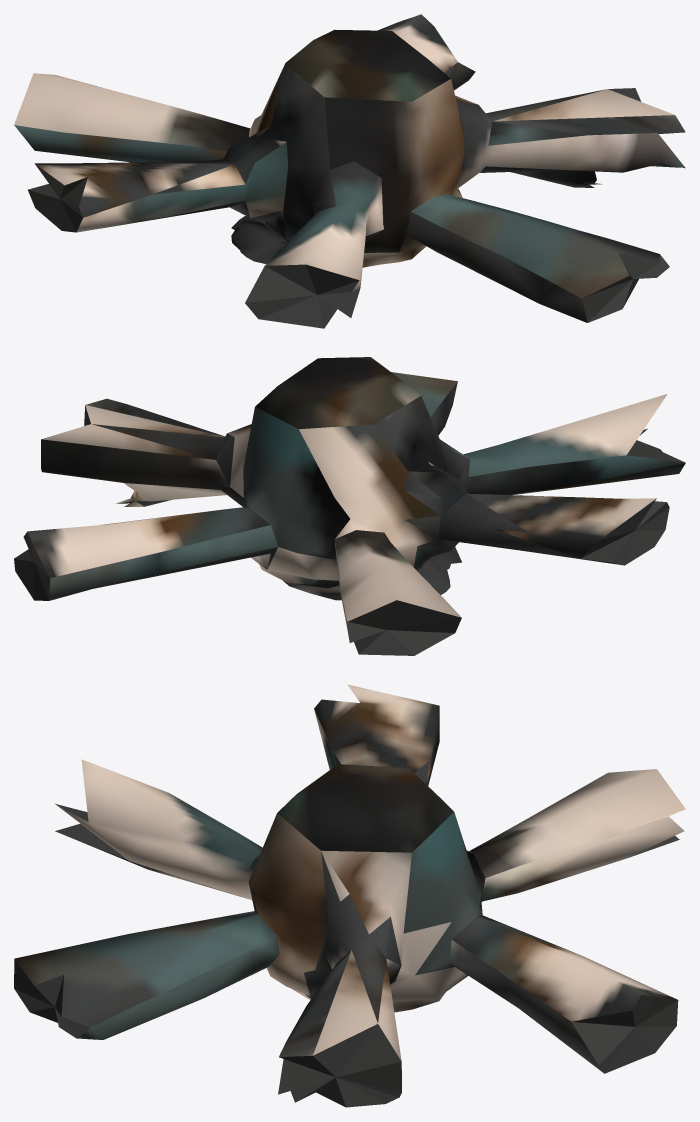
File: SM_Extractor_Rotor_FR.fbx
3 renders of one model, top to bottom at view 1: azimuth 30°, elevation 25°; view 2: azimuth 150°, elevation 25°; view 3: azimuth 270°, elevation 25°, orthographic. The views are drawn at different scales.
Visible parts, largest first — view 1: SM_Extractor_Rotor_FR; view 2: SM_Extractor_Rotor_FR; view 3: SM_Extractor_Rotor_FR.
Boxes of the visible parts, bbox=[...] form: SM_Extractor_Rotor_FR: bbox=[14, 14, 685, 328]; SM_Extractor_Rotor_FR: bbox=[14, 357, 685, 655]; SM_Extractor_Rotor_FR: bbox=[14, 684, 685, 1107].
Size of the model in its own units: 0.4396 by 0.1352 by 0.4064.
